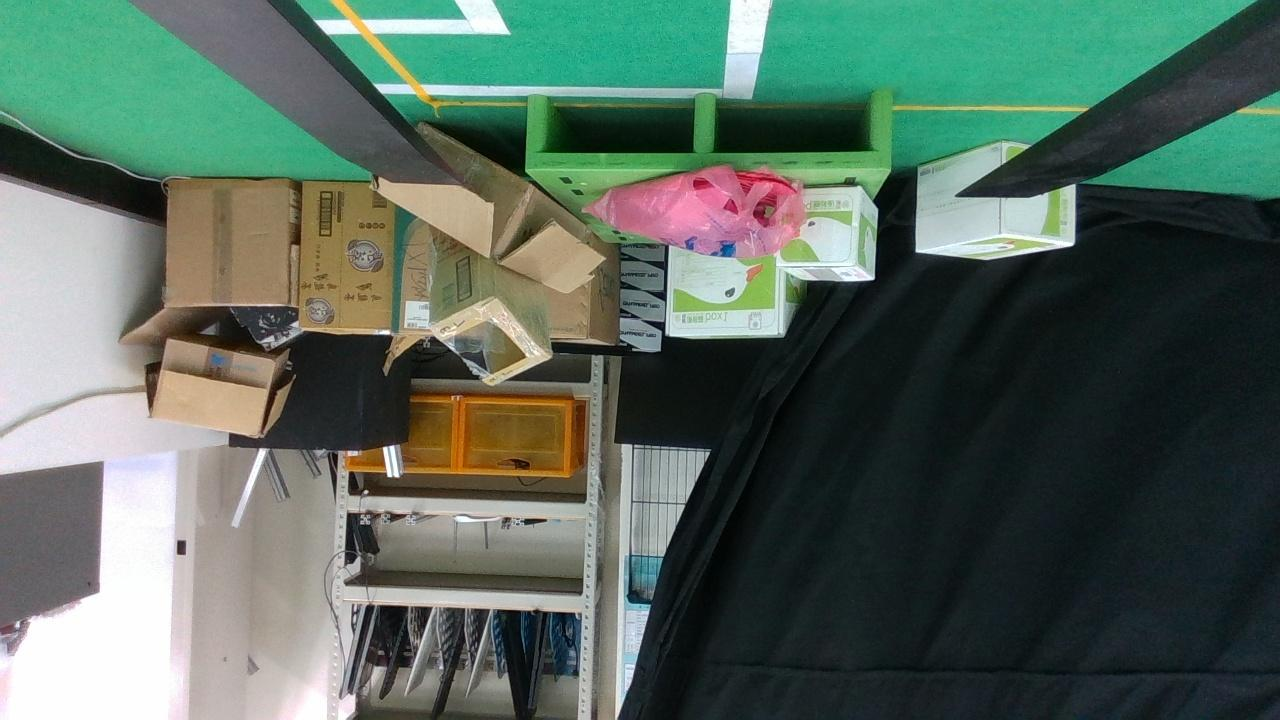Pallet: (528, 89, 896, 173)
